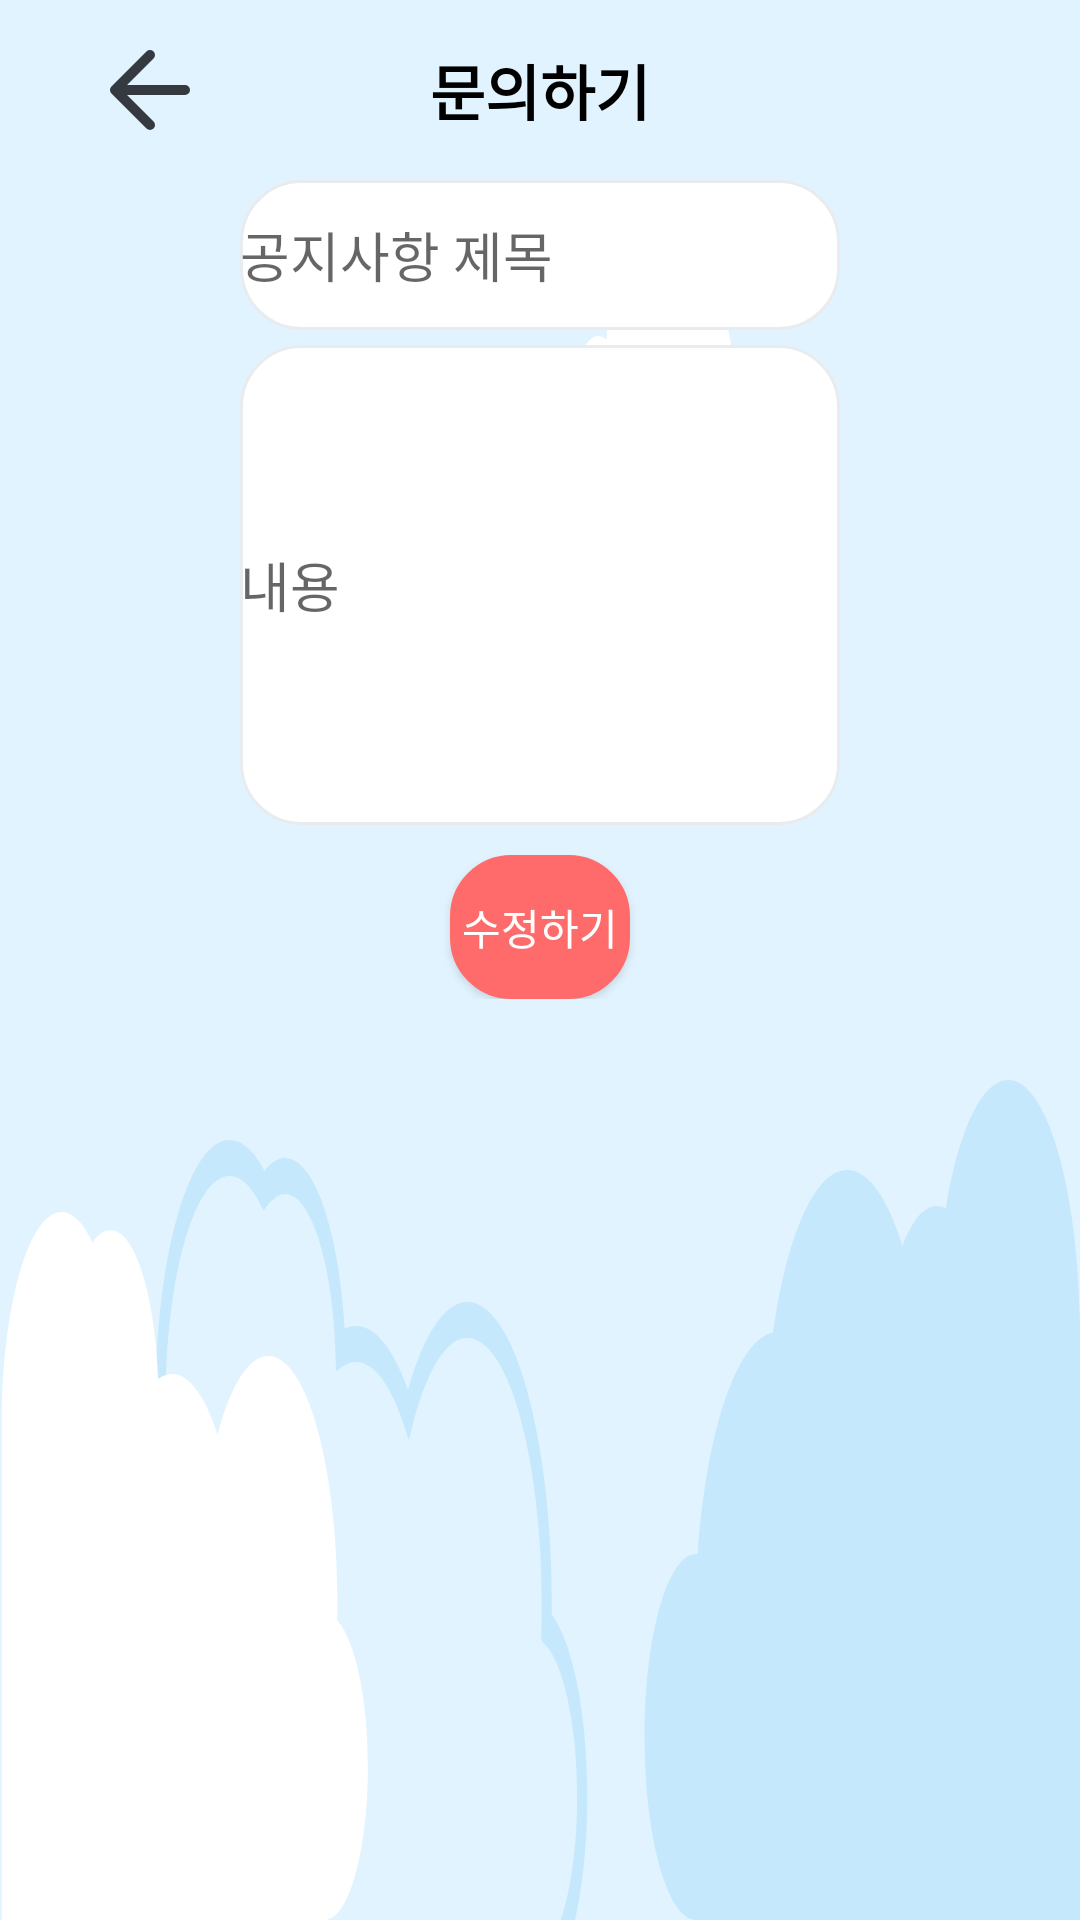

Icon click points for this 1080 x 1920 phone screenshot, format (x=x, y=y):
left: (x=150, y=90)
